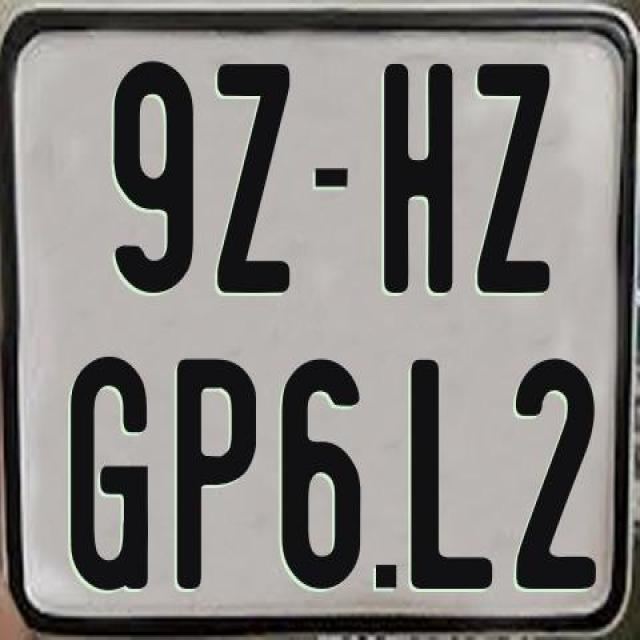2: (512, 357, 596, 590)
6: (281, 357, 368, 589)
9: (109, 61, 196, 294)
G: (69, 354, 147, 596)
H: (384, 61, 462, 290)
L: (411, 357, 498, 592)
P: (177, 353, 260, 584)
Z: (476, 64, 554, 299), (216, 59, 292, 291)
